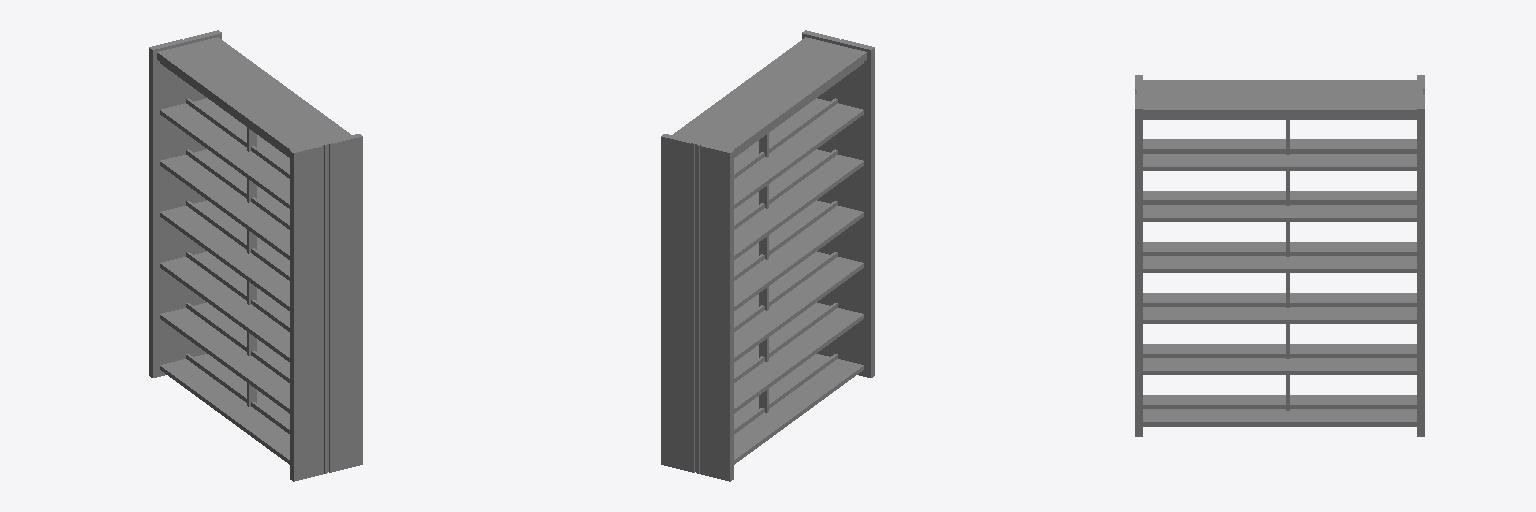
The model's file is BookShelf2.obj.
3 views of the same model, side by side, from view 1: azimuth 30°, elevation 25°; view 2: azimuth 150°, elevation 25°; view 3: azimuth 270°, elevation 25° (orthographic).
Parts seen in each view (by area): view 1: 3dSolid; view 2: 3dSolid; view 3: 3dSolid.
Part boxes in pixels (x1,y1,x2,y2): 3dSolid: (149,30,362,481); 3dSolid: (661,30,874,481); 3dSolid: (1135,75,1424,436).
Size of the model in its own units: 50 by 225 by 180.